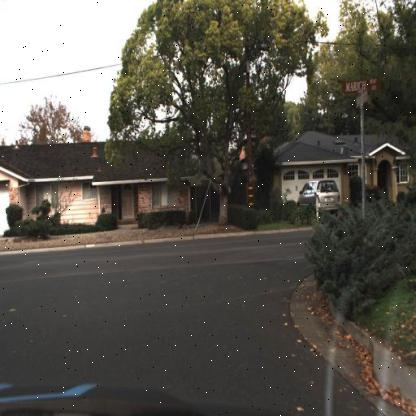car: (296, 179, 342, 216)
